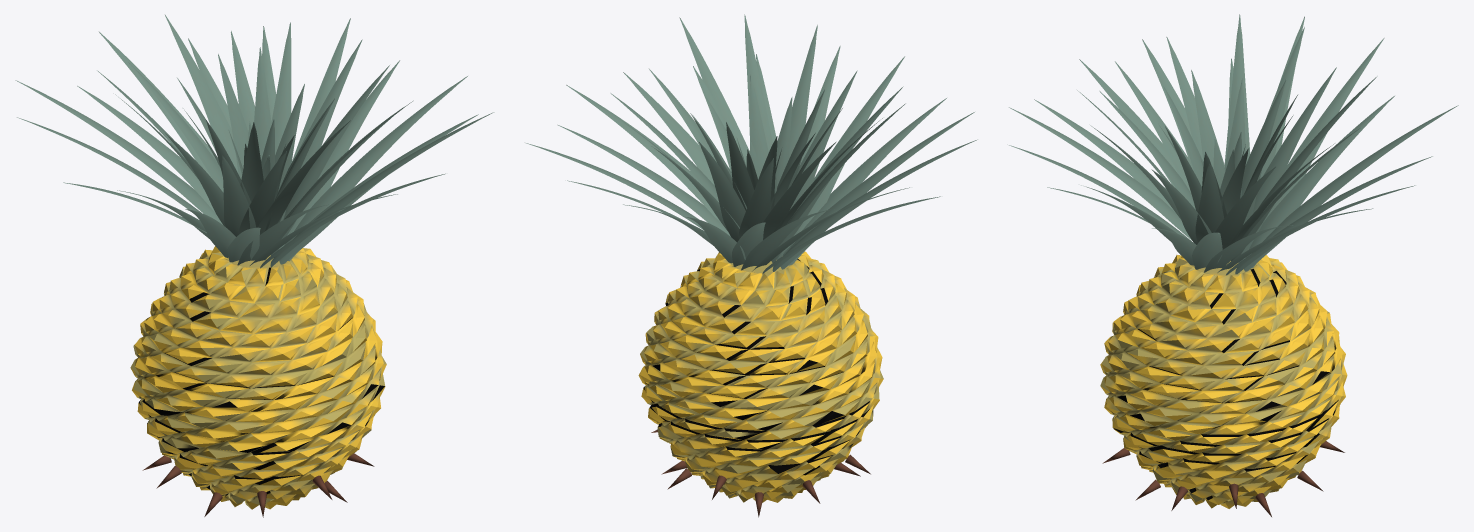
3 views of the same model, side by side, from view 1: azimuth 30°, elevation 25°; view 2: azimuth 150°, elevation 25°; view 3: azimuth 270°, elevation 25° (orthographic). The views are drawn at different scales.
Visible parts, largest first — view 1: fruit_body, crown_leaf.043, crown_leaf.032, crown_leaf.016, crown_leaf.026, crown_leaf.044, crown_leaf.041, crown_leaf.031, crown_leaf.021, crown_leaf.028, crown_leaf.017, crown_leaf.027 (+21 smaller); view 2: fruit_body, crown_leaf.037, crown_leaf.038, crown_leaf.036, crown_leaf.016, crown_leaf.043, crown_leaf.044, crown_leaf.035, crown_leaf.023, crown_leaf.042, crown_leaf.041, crown_leaf.022 (+20 smaller); view 3: fruit_body, crown_leaf.031, crown_leaf.030, crown_leaf.017, crown_leaf.032, crown_leaf.038, crown_leaf.026, crown_leaf.019, crown_leaf.037, crown_leaf.007, crown_leaf.016, crown_leaf.021 (+19 smaller).
Boxes of the visible parts, box(x1,y1,x2,y2) form: fruit_body: box(130, 246, 386, 509); crown_leaf.043: box(284, 76, 467, 261); crown_leaf.032: box(15, 80, 222, 224); crown_leaf.016: box(165, 15, 238, 173); crown_leaf.026: box(271, 65, 389, 255); crown_leaf.044: box(284, 60, 399, 245); crown_leaf.041: box(270, 112, 494, 267); crown_leaf.031: box(77, 86, 215, 212); crown_leaf.021: box(222, 156, 255, 236); crown_leaf.028: box(271, 22, 291, 162); crown_leaf.017: box(129, 63, 223, 192); crown_leaf.027: box(278, 39, 362, 249); fruit_body: box(638, 251, 883, 502); crown_leaf.037: box(782, 98, 946, 265); crown_leaf.038: box(783, 56, 904, 253); crown_leaf.036: box(780, 112, 974, 269); crown_leaf.016: box(699, 142, 745, 242); crown_leaf.043: box(566, 85, 720, 221); crown_leaf.044: box(558, 125, 730, 236); crown_leaf.035: box(772, 139, 977, 271); crown_leaf.023: box(782, 25, 817, 256); crown_leaf.042: box(623, 72, 714, 185); crown_leaf.041: box(679, 17, 749, 158); crown_leaf.022: box(777, 70, 857, 259); fruit_body: box(1100, 255, 1347, 508); crown_leaf.031: box(1246, 96, 1394, 268); crown_leaf.030: box(1244, 105, 1458, 271); crown_leaf.017: box(1238, 67, 1336, 262); crown_leaf.032: box(1264, 38, 1384, 221); crown_leaf.038: box(1009, 107, 1192, 240); crown_leaf.026: box(1195, 162, 1224, 242); crown_leaf.019: box(1224, 14, 1250, 165); crown_leaf.037: box(1034, 99, 1174, 211); crown_leaf.007: box(1241, 79, 1286, 224); crown_leaf.016: box(1231, 76, 1377, 260); crown_leaf.021: box(1115, 61, 1193, 192).
Size of the model in its own units: 3.69 by 3.75 by 3.66.
Materials: 62 (62 with a texture image).
